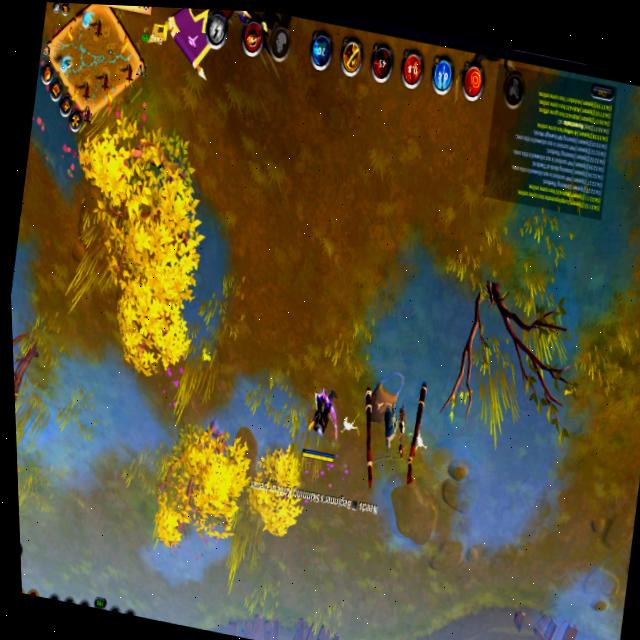red: (294, 376, 350, 471), (145, 6, 187, 16)
